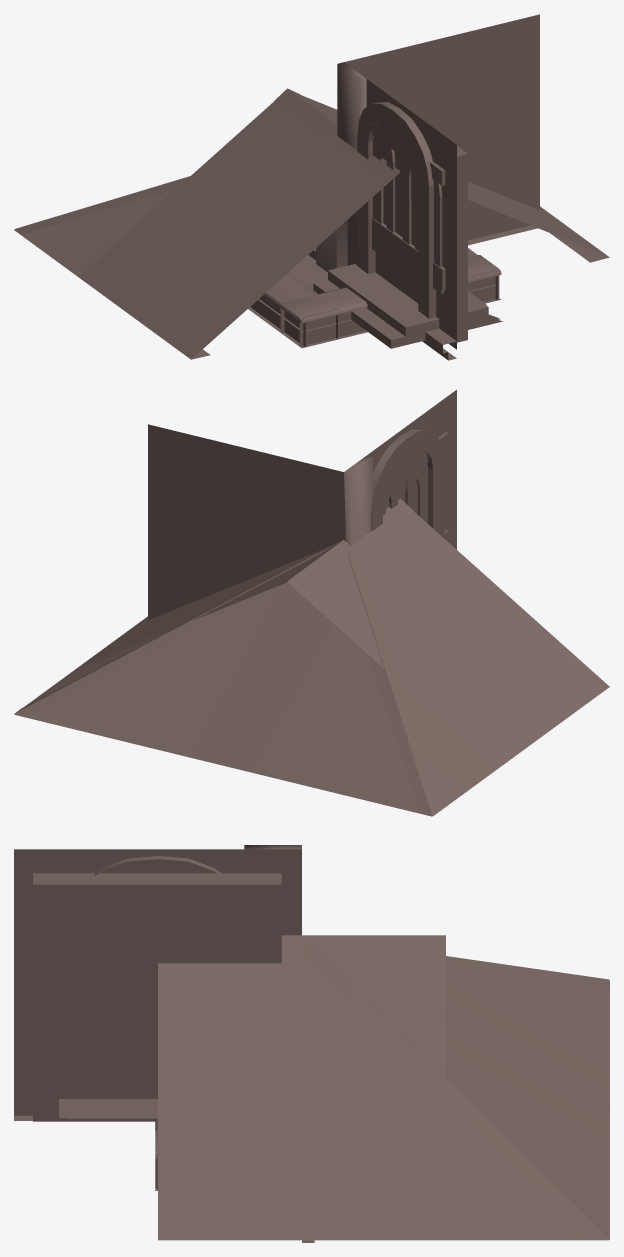
Rendered from Bmodules.fbx.
The picture shows the model from 3 angles, top to bottom: view 1: azimuth 30°, elevation 25°; view 2: azimuth 150°, elevation 25°; view 3: azimuth 270°, elevation 25°; orthographic projection. The views are drawn at different scales.
Parts seen in each view (by area): view 1: Building_Roof_00, Building_wall_00, Building_Roof_01, Building_door_00, Building_Windows_00, Building_Windows_01, Building_Roof_v2_05, Building_door_02, Building_door_03, Building_Windows_03, Building_carnise_00, Building_door_00.001 (+7 smaller); view 2: Building_Roof_00, Building_Roof_01, Building_Roof_02, Building_wall_00, Building_door_00, Building_Windows_01, Building_carnise_00, Building_Windows_00, Building_carnise_01, Building_door_01; view 3: Building_Roof_00, Building_door_00.001, Building_Roof_02, Building_Roof_01, Building_door_02, Building_door_00.
Part boxes in pixels (x1,y1,x2,y2): Building_Roof_00: (78,88,609,359); Building_wall_00: (344,14,539,245); Building_Roof_01: (14,132,337,276); Building_door_00: (357,102,500,319); Building_Windows_00: (384,143,456,349); Building_Windows_01: (366,79,456,282); Building_Roof_v2_05: (248,248,499,346); Building_door_02: (314,123,497,336); Building_door_03: (313,264,502,348); Building_Windows_03: (366,79,456,290); Building_carnise_00: (337,64,365,265); Building_door_00.001: (457,146,467,342); Building_Roof_00: (79,498,609,769); Building_Roof_01: (223,540,496,816); Building_Roof_02: (14,541,340,765); Building_wall_00: (148,424,417,620); Building_door_00: (371,429,443,537); Building_Windows_01: (367,389,456,523); Building_carnise_00: (350,457,373,545); Building_Windows_00: (389,452,456,549); Building_carnise_01: (344,455,372,545); Building_door_01: (384,452,425,494); Building_Roof_00: (158,935,445,1240); Building_door_00.001: (14,849,301,1121); Building_Roof_02: (302,935,609,1240); Building_Roof_01: (446,956,609,1109); Building_door_02: (72,1099,157,1117); Building_door_00: (66,856,221,1118).
Size of the model in its own units: 641 by 321 by 621.
